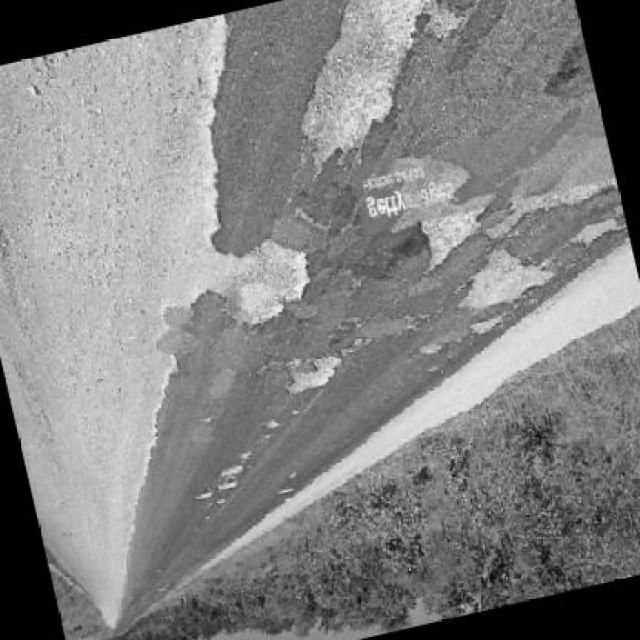pothole: (266, 1, 492, 174), (202, 232, 322, 343), (446, 242, 560, 323), (409, 206, 497, 282), (280, 349, 346, 402), (559, 216, 623, 255), (212, 462, 245, 486), (193, 491, 215, 507)
